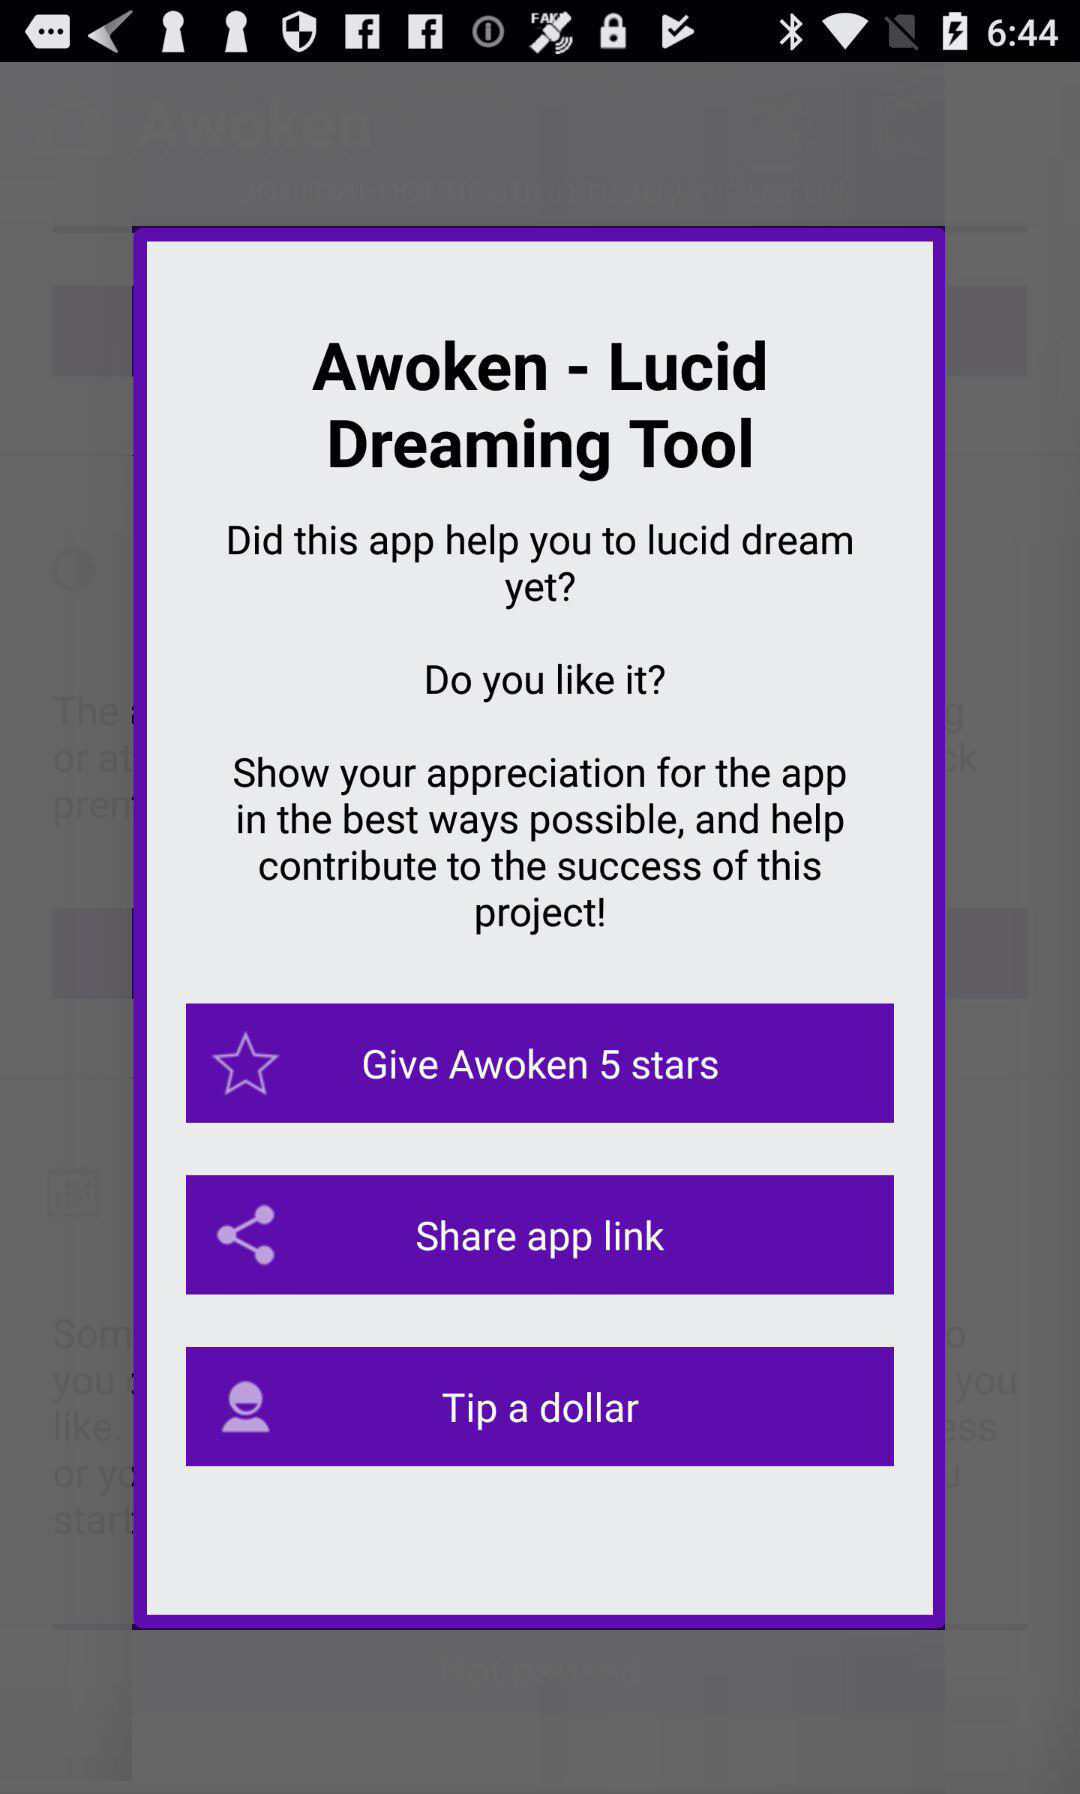Modal: (135, 229, 949, 1629)
Text: (233, 755, 846, 935), (313, 340, 767, 484), (228, 523, 853, 613), (427, 662, 666, 704)
TextButton: (187, 1175, 896, 1296), (186, 1003, 894, 1123), (186, 1347, 894, 1466)
UpperTaskBar: (1, 1, 1080, 64)
